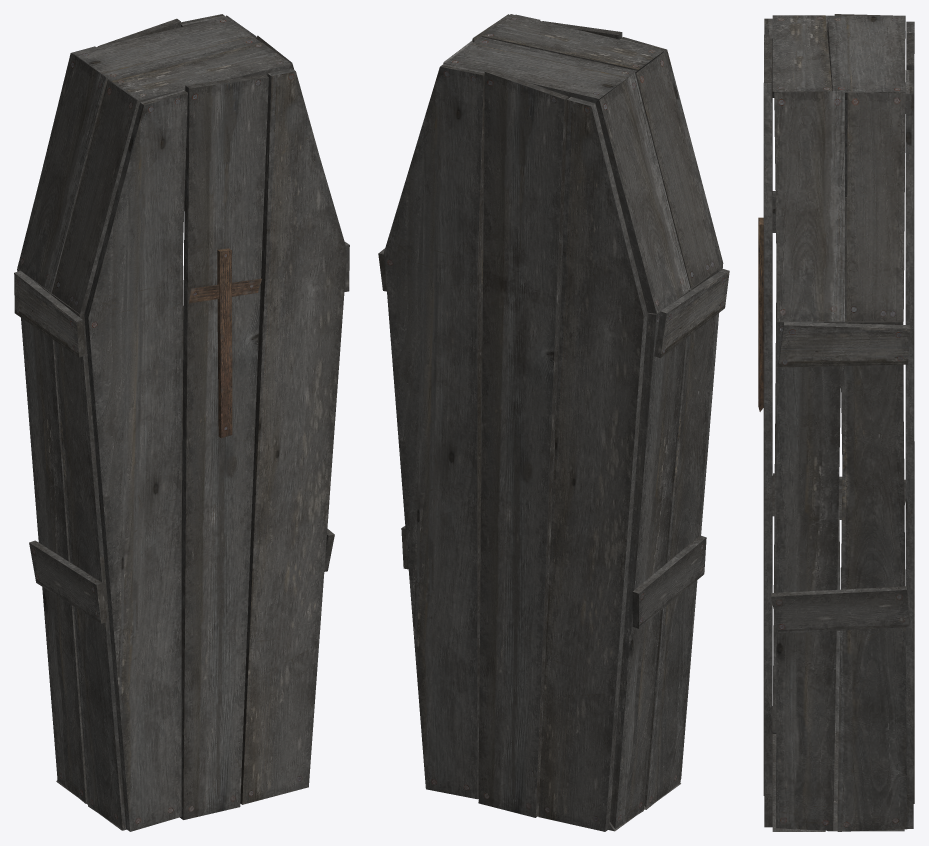
File: SM_coffin_03.fbx
3 renders of one model, left to right at view 1: azimuth 30°, elevation 25°; view 2: azimuth 150°, elevation 25°; view 3: azimuth 270°, elevation 25°, orthographic.
Visible parts, largest first — view 1: SM_coffin_03_LOD0; view 2: SM_coffin_03_LOD0; view 3: SM_coffin_03_LOD0.
Boxes of the visible parts, x1,y1,x2,y2 form: SM_coffin_03_LOD0: [14, 14, 349, 831]; SM_coffin_03_LOD0: [378, 14, 729, 831]; SM_coffin_03_LOD0: [758, 14, 914, 831].
Bounding box in the file's own units: 80.02 × 38.33 × 200.
Materials: 1 (1 with a texture image).
